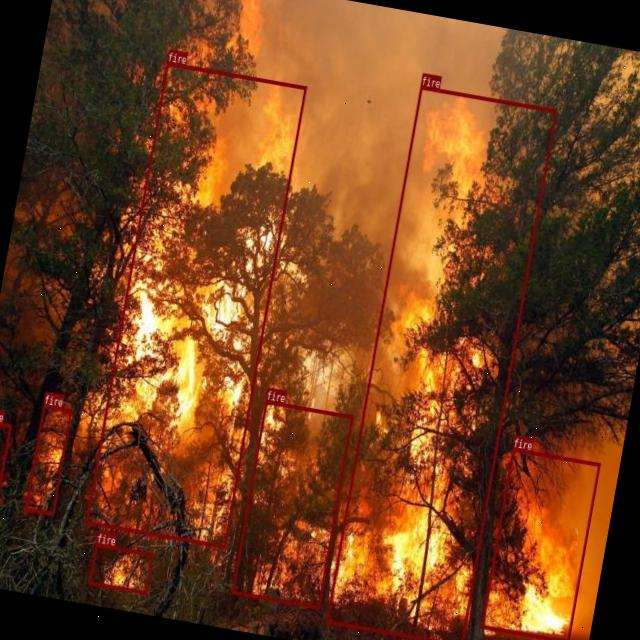fire: (324, 84, 556, 640), (86, 61, 306, 547), (230, 398, 353, 608), (480, 446, 600, 640), (24, 403, 72, 515), (88, 542, 153, 594), (0, 419, 11, 501)
